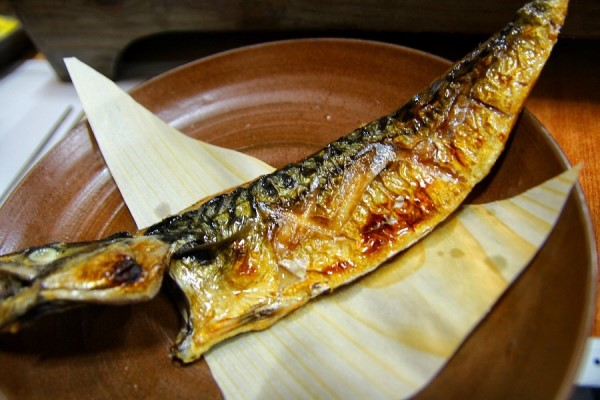godeung-eogu-i: (1, 0, 577, 369)
